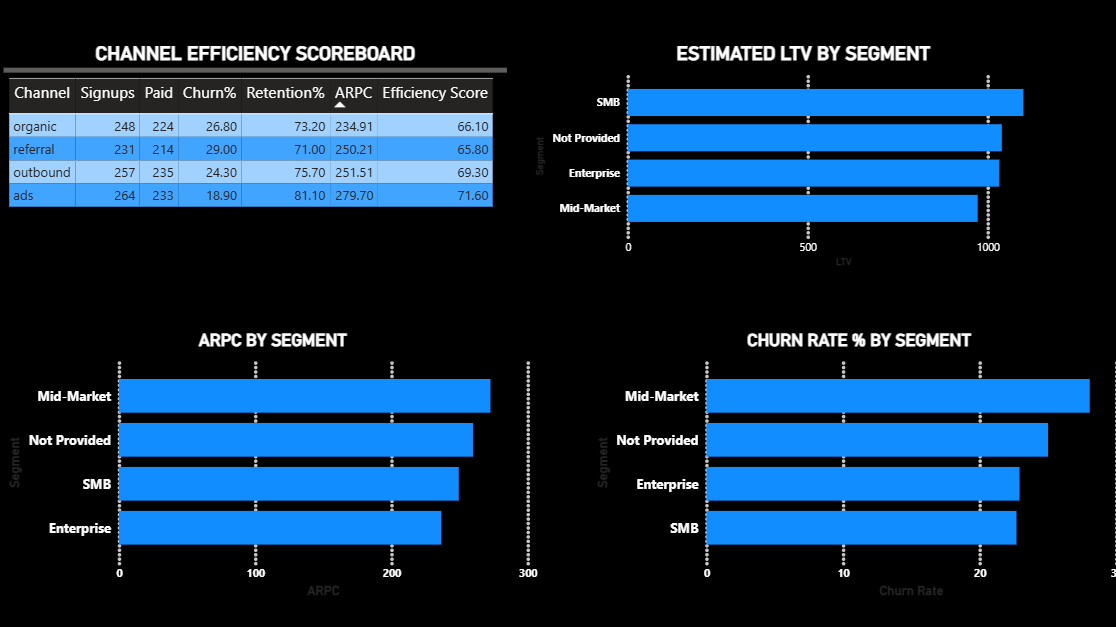

This screenshot's page, from the dashboard's own definition file:
{"tool":"powerbi","page":{"name":"Channel and Segment","canvas":[1280,720],"ordinal":2},"visuals":[{"type":"tableEx","title":"CHANNEL EFFICIENCY SCOREBOARD","fields":{"Values":["Channel_Score.Channel","Channel_Score.Signups","Channel_Score.Paid","Channel_Score.Churn%","Channel_Score.Retention%","Channel_Score.ARPC","Channel_Score.Efficiency Score"]},"box":[19.6,50.5,565.1,256.6],"z":0},{"type":"clusteredBarChart","title":"ESTIMATED LTV BY SEGMENT","fields":{"Category":["Segment_LTV.Segment"],"Y":["Sum(Segment_LTV.LTV)"]},"box":[611.4,50.5,611.4,258],"z":1000},{"type":"clusteredBarChart","title":"ARPC BY SEGMENT","fields":{"Category":["Segment_LTV.Segment"],"Y":["Sum(Segment_LTV.ARPC)"]},"box":[19.6,374.4,604.4,304.3],"z":2000},{"type":"clusteredBarChart","title":"CHURN RATE % BY SEGMENT","fields":{"Category":["Segment_LTV.Segment"],"Y":["Sum(Segment_LTV.Churn Rate)"]},"box":[678.7,374.4,601.6,304.3],"z":3000}]}

Visuals, with their boxes in screenshot pixels (x1, y1, x2, y2), scaled from the page's 1280x720 canvas onto the 1116x627 screenshot:
"CHANNEL EFFICIENCY SCOREBOARD" tableEx: bbox(17, 44, 510, 267)
"ESTIMATED LTV BY SEGMENT" clusteredBarChart: bbox(533, 44, 1066, 269)
"ARPC BY SEGMENT" clusteredBarChart: bbox(17, 326, 544, 591)
"CHURN RATE % BY SEGMENT" clusteredBarChart: bbox(592, 326, 1115, 591)
